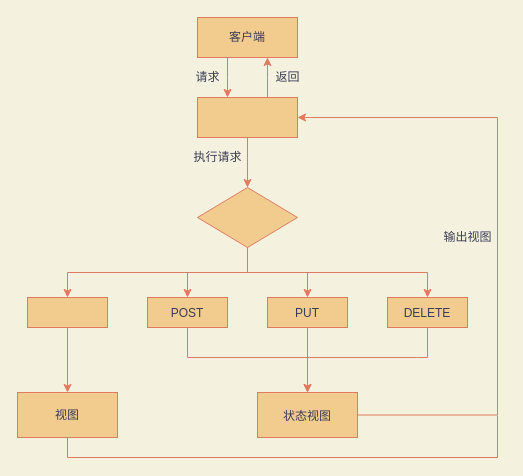
Some shapes in this 523 by 476 pixel diagram are drawn without their labels. The centre of each missing label's shape, as x and y in pixels:
"GET" belongs at pixel 67 312.
"服务器" belongs at pixel 247 117.
"路由层" belongs at pixel 247 217.
